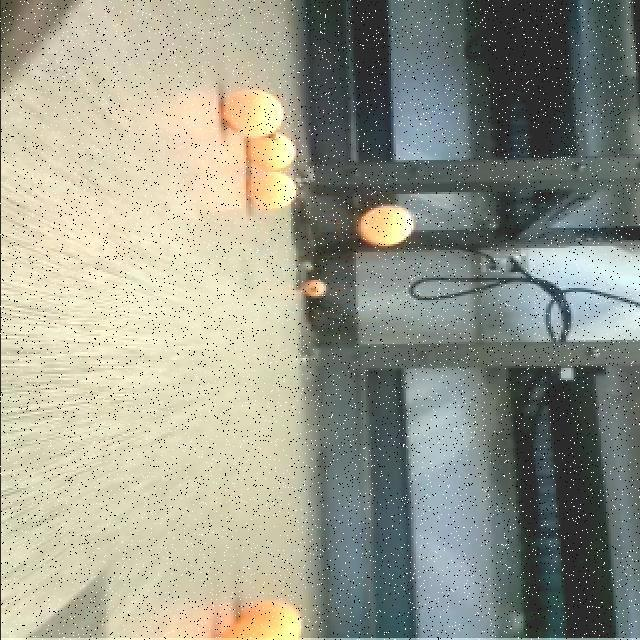ping-pong-ball: (213, 82, 284, 141), (223, 599, 307, 640), (352, 201, 416, 252), (238, 173, 300, 214), (248, 130, 296, 173), (300, 277, 330, 300)
